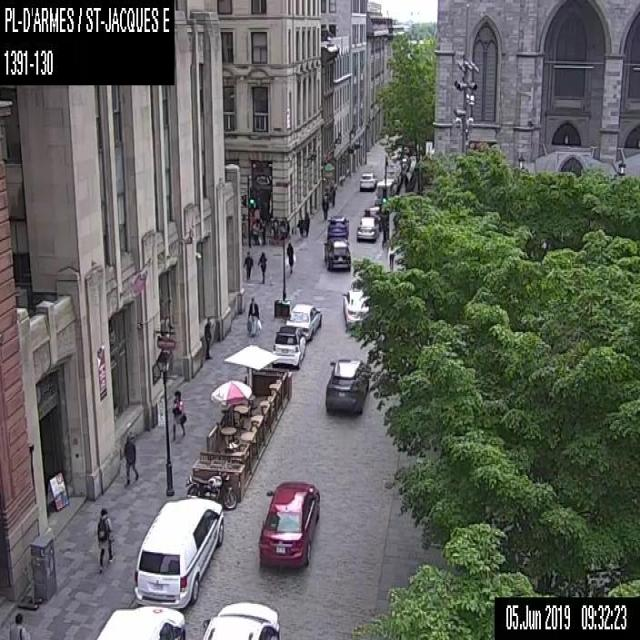pedestrian: (96, 505, 114, 572), (170, 389, 186, 440), (123, 435, 138, 489), (246, 296, 262, 336), (7, 612, 30, 639), (203, 316, 212, 359), (257, 250, 267, 282), (285, 241, 294, 275), (243, 250, 253, 280), (271, 216, 280, 245), (282, 216, 290, 242), (252, 217, 259, 245), (321, 194, 328, 220), (260, 217, 266, 244), (388, 244, 394, 270), (303, 211, 309, 236), (296, 215, 303, 236), (330, 185, 335, 206)
vehicle: (133, 494, 223, 606), (258, 480, 320, 568), (202, 598, 279, 638), (96, 606, 186, 639), (324, 357, 368, 416), (184, 470, 237, 509), (270, 325, 305, 369), (284, 302, 322, 340), (341, 287, 370, 330), (323, 235, 350, 270), (374, 178, 394, 208), (326, 214, 348, 239), (362, 204, 382, 230), (356, 217, 378, 240), (359, 171, 377, 190)
